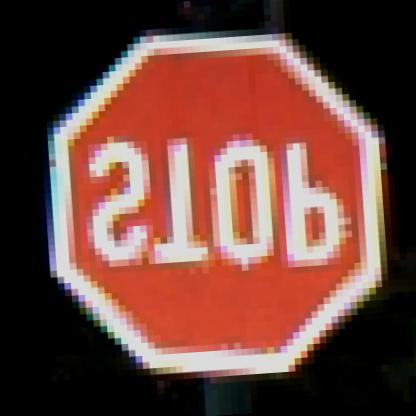stop: (13, 12, 408, 399)
